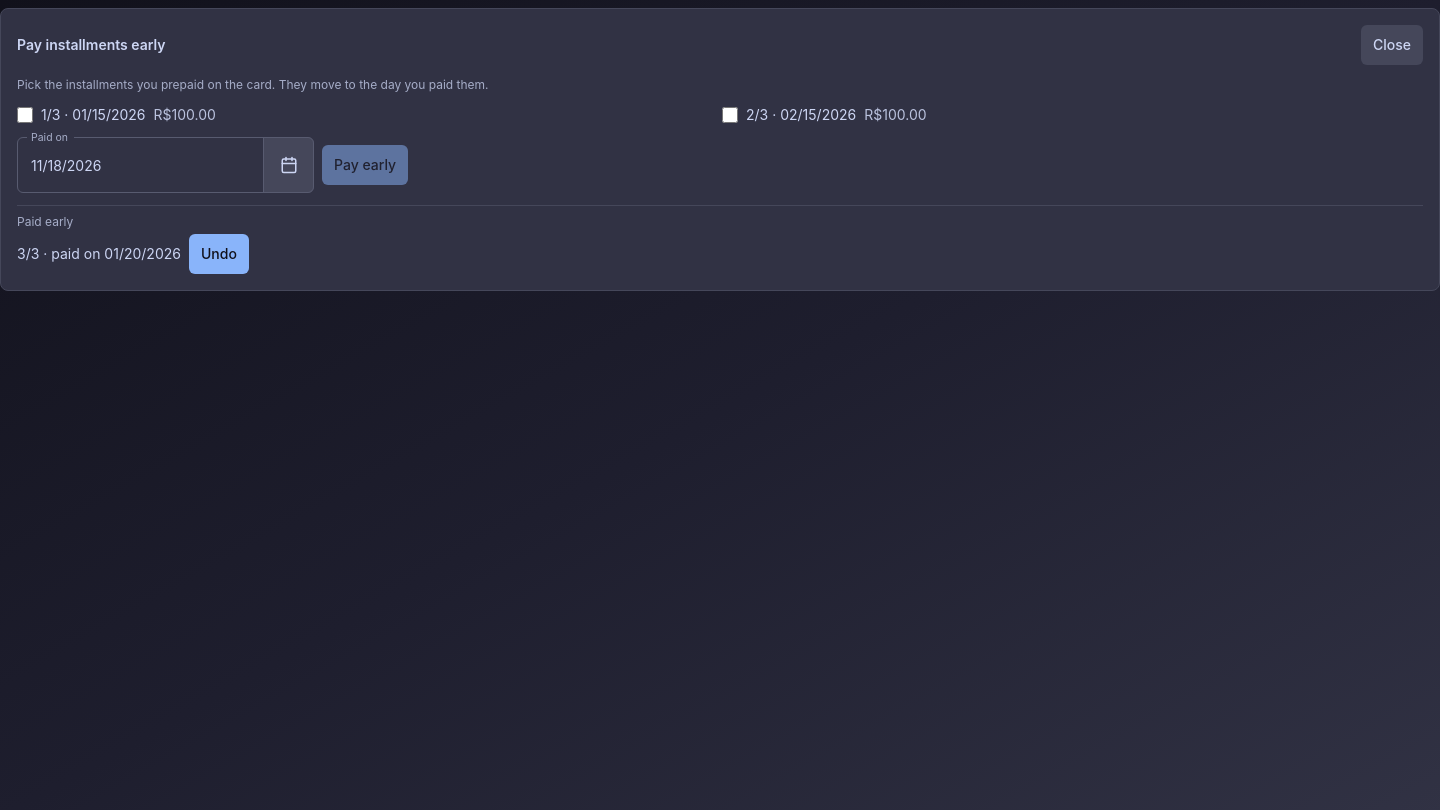
it: InstallmentPrepayment › shows the reason when the API refuses
What coordinates should you click on to do the following:
click the checkbox labelled "1/3 · 01/15/2026 R$100.00"
I would click on:
 (25, 115)
Its box is [17, 107, 33, 123].
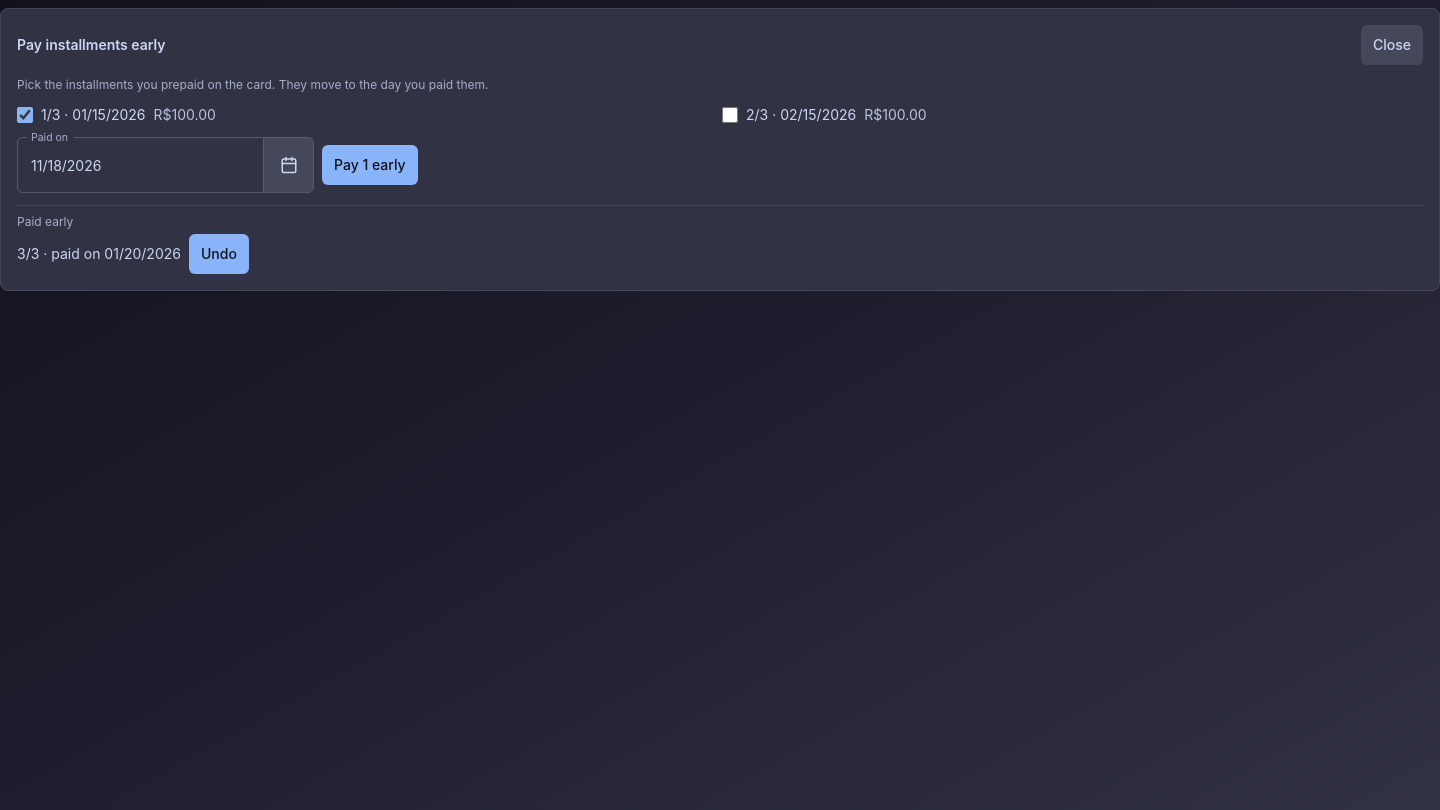
What coordinates should you click on to do the following:
click the button "Pay 1 early"
I would click on:
 (370, 165)
Its box is [322, 145, 418, 185].
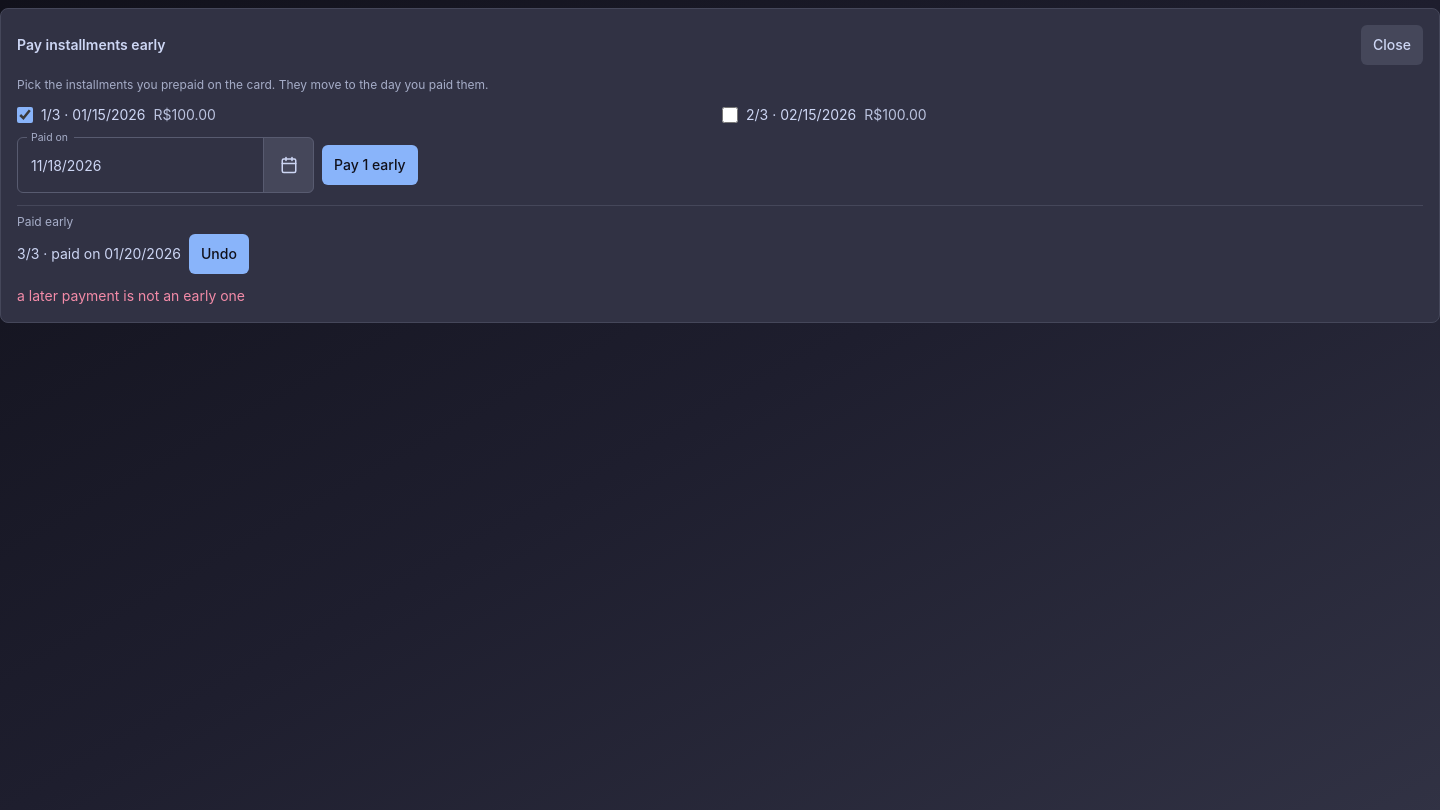
Now the message reads "a later payment is not an early one", box [17, 287, 245, 304]
